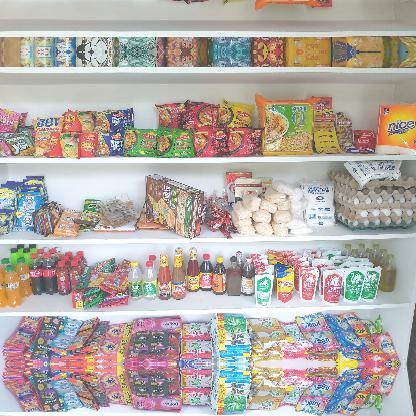Koko-Krunch: (144, 172, 202, 240)
